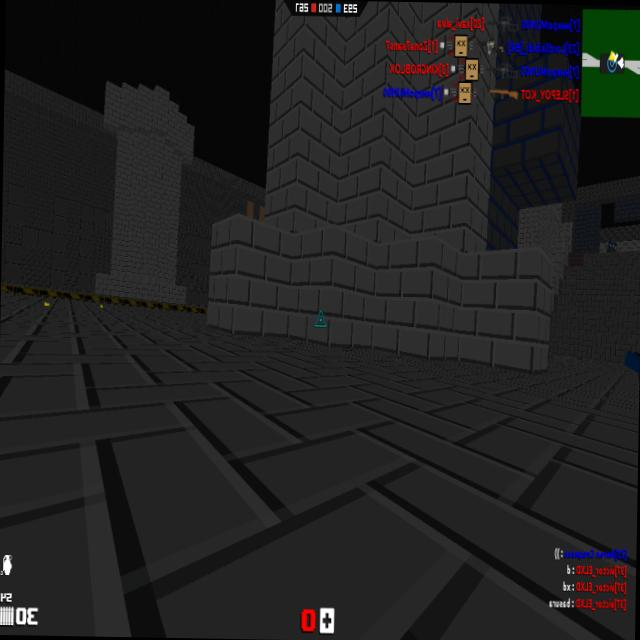enemy: (606, 238, 618, 254)
